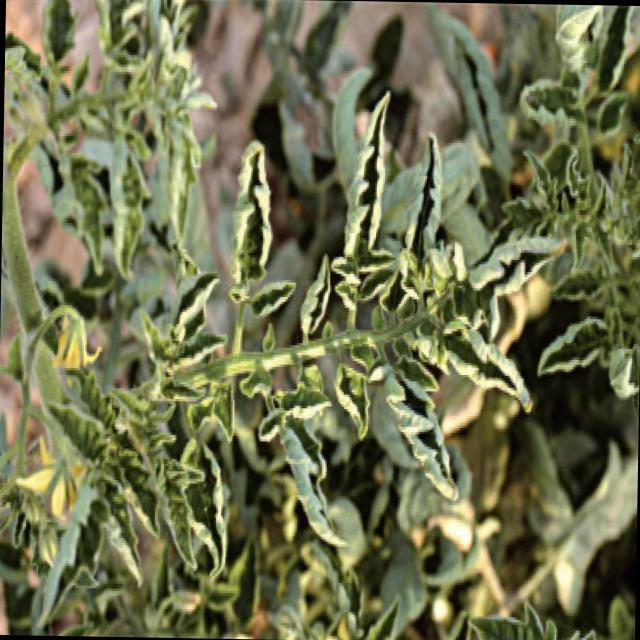Yellow Curl Virus: (259, 380, 355, 560), (391, 355, 464, 507), (342, 84, 388, 250), (101, 125, 148, 278), (404, 126, 452, 274), (468, 235, 572, 298), (228, 139, 274, 280), (151, 449, 200, 571), (534, 324, 608, 374)
